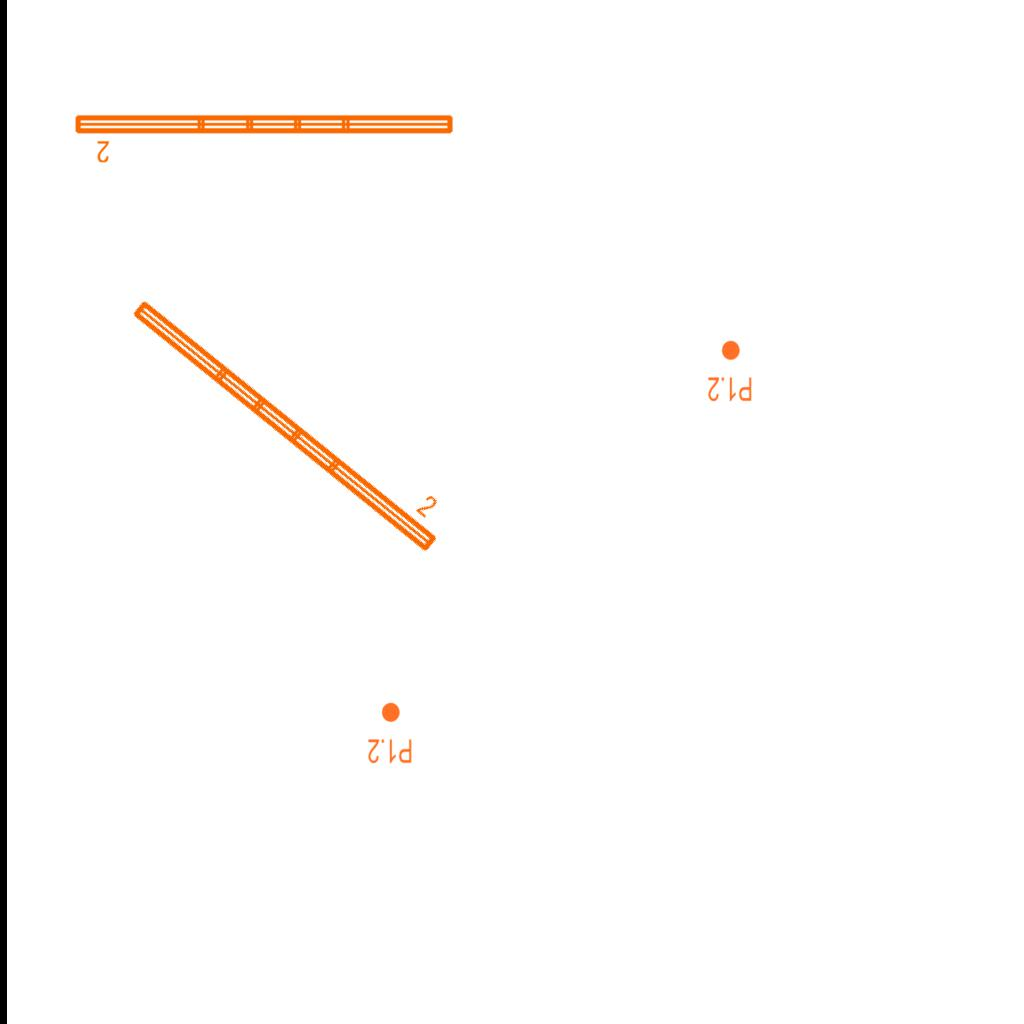Ambulanz_Pendelleuchte_LED: (124, 272, 461, 560), (71, 109, 458, 165)
Downlight_LED_Einbauleuchten_Flur: (367, 701, 413, 765), (707, 339, 753, 403)
